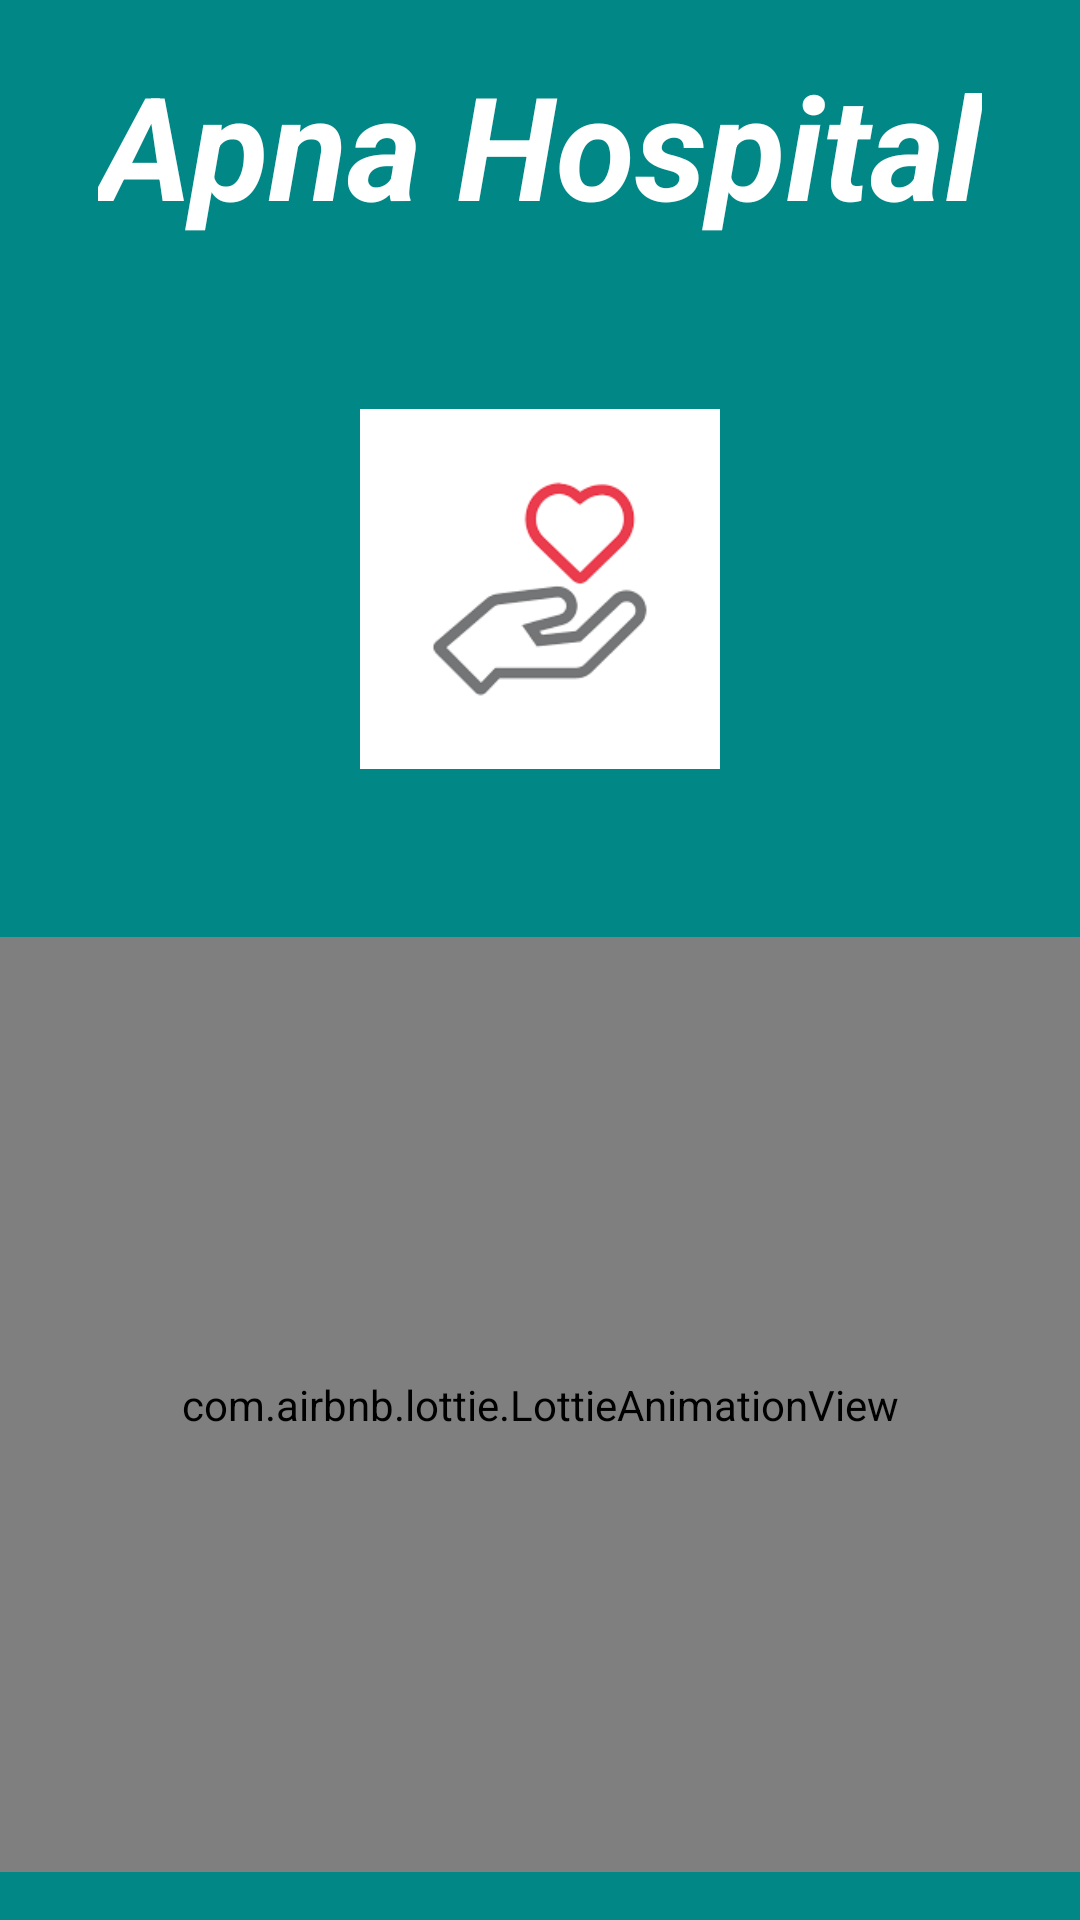

Icon click points for this 1080w x 1920h phone screenshot, format (x,y):
heart in hand: (540,589)
